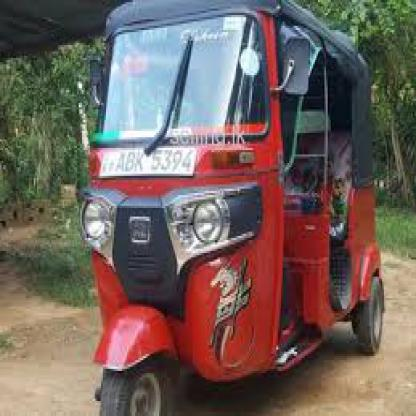tuk: (85, 0, 386, 414)
